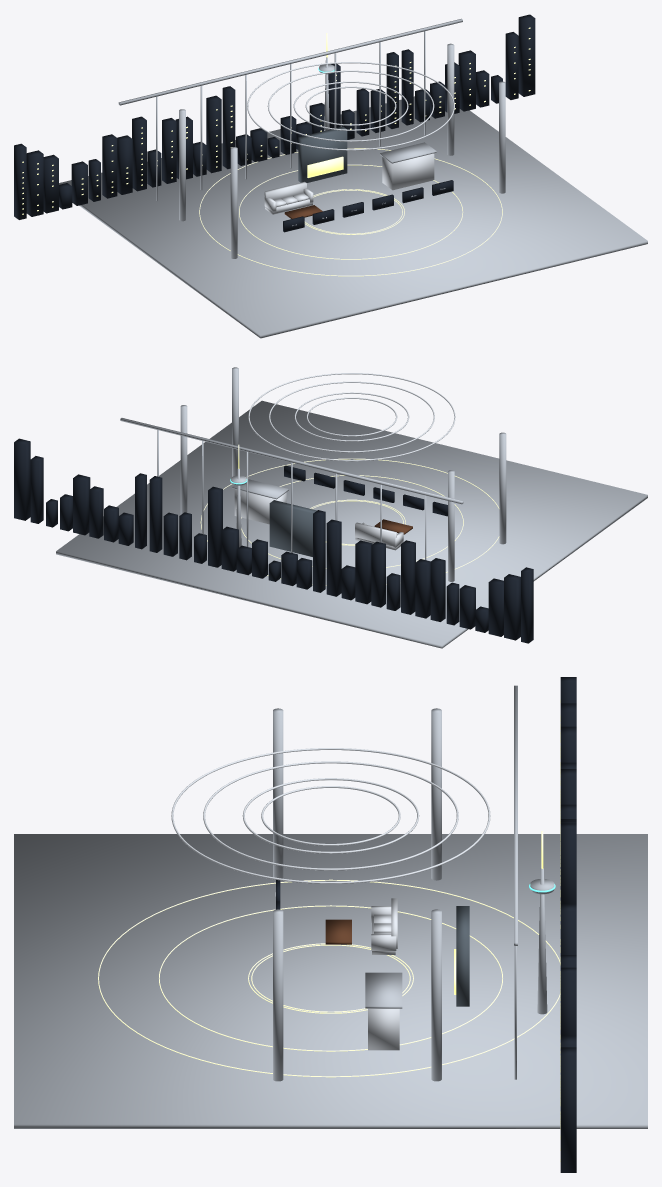
The model's file is home.glb.
3 renders of one model, top to bottom at view 1: azimuth 30°, elevation 25°; view 2: azimuth 150°, elevation 25°; view 3: azimuth 270°, elevation 25°, orthographic. The views are drawn at different scales.
Visible parts, largest first — view 1: Reflective floor, Fireplace surround, Window lintel, Kitchen island, Toronto skyline.034, Toronto skyline.013, Toronto skyline.001, Toronto skyline.008, Toronto skyline.014, Toronto skyline.030, Toronto skyline.006, Toronto skyline (+28 smaller); view 2: Reflective floor, Fireplace surround, Window lintel, Toronto skyline.034, Toronto skyline.013, Toronto skyline.021, Toronto skyline.001, Toronto skyline.008, Toronto skyline.014, Toronto skyline.011, Toronto skyline.025, Toronto skyline.030 (+33 smaller); view 3: Reflective floor, Toronto skyline.034, Ceiling light ring.003, Chrome column.002, Chrome column.003, Chrome column.001, Chrome column, Ceiling light ring.002, Architectural floor inlay.003, Fireplace surround, Kitchen counter, Toronto skyline.014 (+9 smaller).
Part boxes in pixels (box(x1,y1,x2,y2)): Reflective floor: box(59, 96, 647, 338); Fireplace surround: box(298, 126, 347, 182); Window lintel: box(118, 18, 462, 105); Kitchen island: box(382, 153, 434, 190); Toronto skyline.034: box(518, 14, 535, 96); Toronto skyline.013: box(206, 95, 221, 173); Toronto skyline.001: box(26, 150, 43, 216); Toronto skyline.008: box(132, 116, 146, 191); Toronto skyline.014: box(222, 86, 235, 169); Toronto skyline.030: box(458, 50, 475, 111); Toronto skyline.006: box(102, 134, 117, 198); Toronto skyline: box(14, 143, 26, 219); Reflective floor: box(56, 400, 647, 648); Fireplace surround: box(269, 500, 316, 556); Window lintel: box(120, 418, 463, 504); Toronto skyline.034: box(14, 438, 30, 520); Toronto skyline.013: box(326, 519, 341, 596); Toronto skyline.021: box(208, 486, 222, 567); Toronto skyline.001: box(504, 574, 520, 640); Toronto skyline.008: box(401, 540, 415, 614); Toronto skyline.014: box(313, 510, 325, 592); Toronto skyline.011: box(355, 540, 372, 604); Toronto skyline.025: box(149, 476, 162, 552); Toronto skyline.030: box(73, 474, 90, 535); Reflective floor: box(14, 834, 647, 1128); Toronto skyline.034: box(560, 1047, 576, 1172); Ceiling light ring.003: box(171, 748, 490, 883); Chrome column.002: box(273, 909, 283, 1081); Chrome column.003: box(431, 909, 441, 1081); Chrome column.001: box(431, 708, 441, 880); Chrome column: box(273, 708, 283, 880); Ceiling light ring.002: box(203, 761, 458, 870); Architectural floor inlay.003: box(98, 879, 560, 1077); Fireplace surround: box(456, 906, 469, 1006); Kitchen counter: box(365, 972, 402, 1008); Toronto skyline.014: box(560, 823, 576, 903).
Size of the model in its own units: 34.64 by 7.77 by 24.
